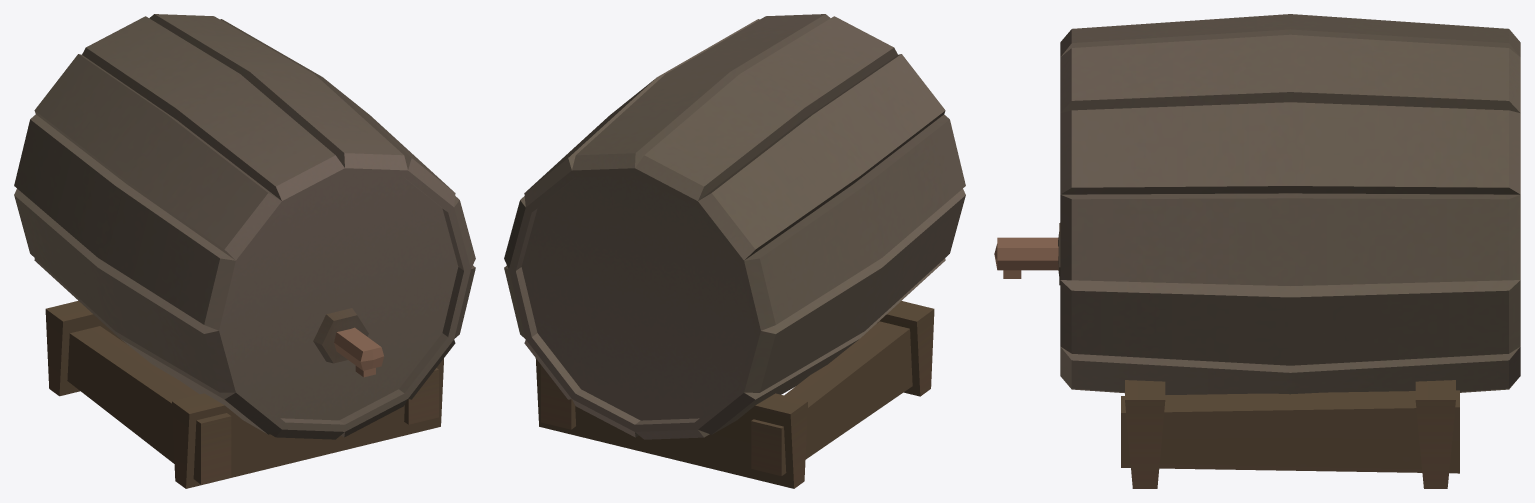
Rendered from Barrel_3.fbx.
3 views of the same model, side by side, from view 1: azimuth 30°, elevation 25°; view 2: azimuth 150°, elevation 25°; view 3: azimuth 270°, elevation 25° (orthographic). The views are drawn at different scales.
Visible parts, largest first — view 1: pCube775; view 2: pCube775; view 3: pCube775.
Boxes of the visible parts, <box> form: pCube775: <box>14,14,475,488</box>; pCube775: <box>504,14,965,488</box>; pCube775: <box>994,14,1520,488</box>.
Size of the model in its own units: 67.24 by 73.13 by 90.54.
